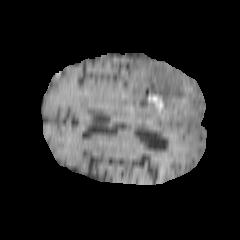glioma: (115, 62, 186, 125)
